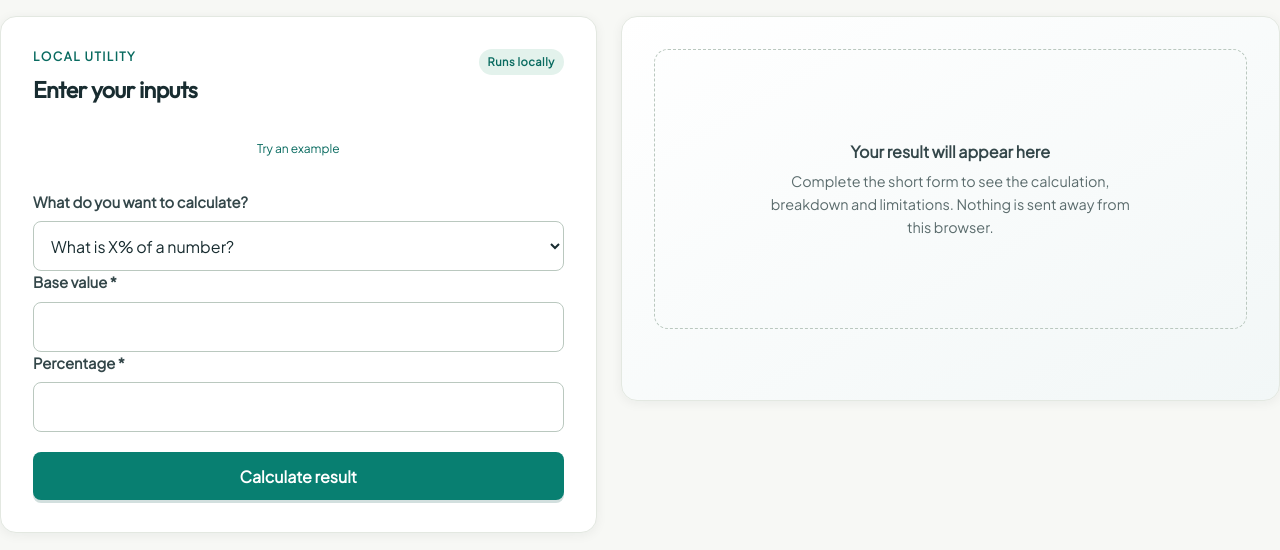
Test: everyday utility calculator form › shows a seeded percentage result and recalculates after an input change
The width and height of the screenshot is (1280, 550).
Click the button "Try an example".
click(298, 149)  # box [33, 127, 564, 171]
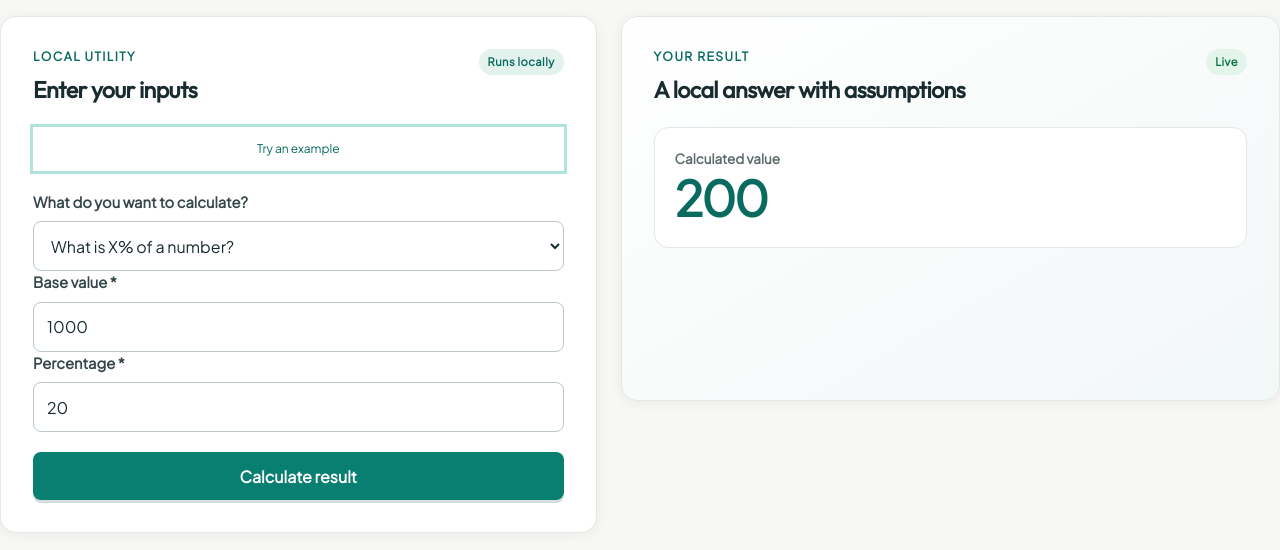
Result: the text "200" is shown at [675, 167, 766, 228]
Replace the text in the field labelled "Percentage" with "25" at (298,407), box [33, 382, 564, 432]
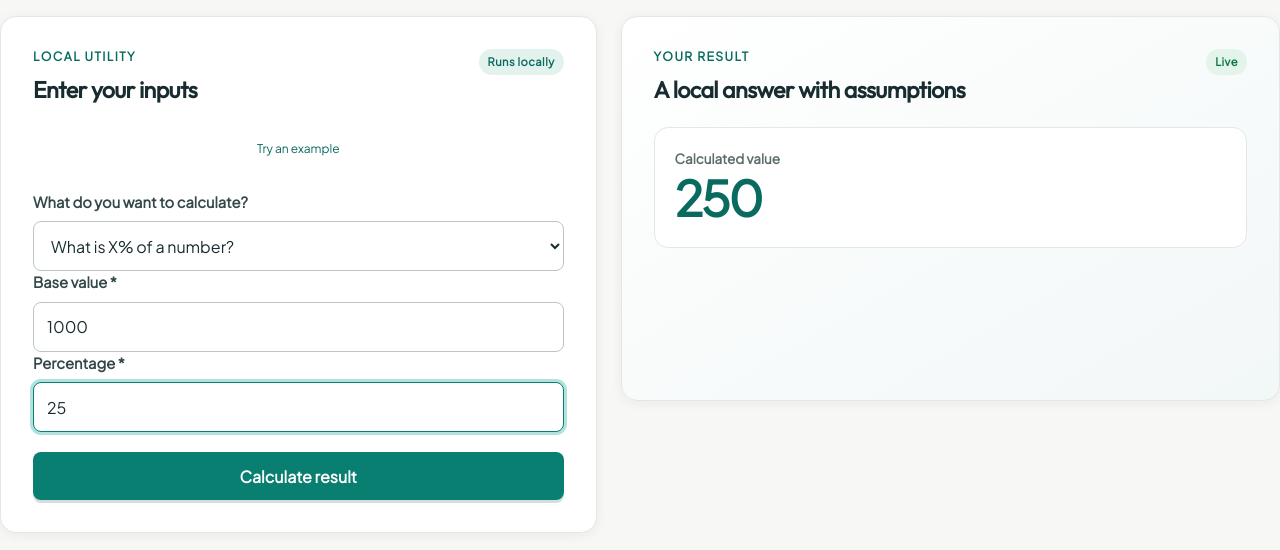
Result: the text "250" is shown at [675, 167, 761, 228]
